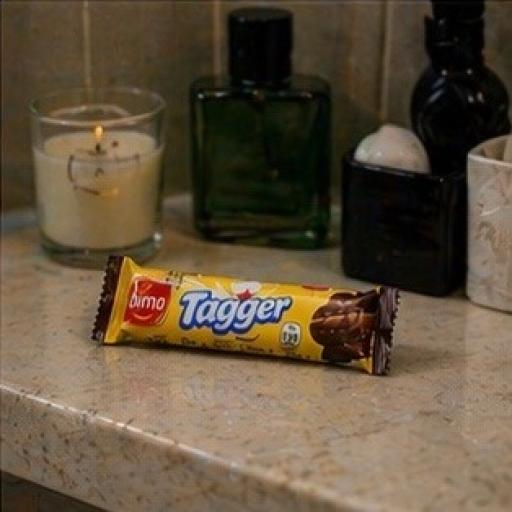tagger: (58, 154, 456, 420)
